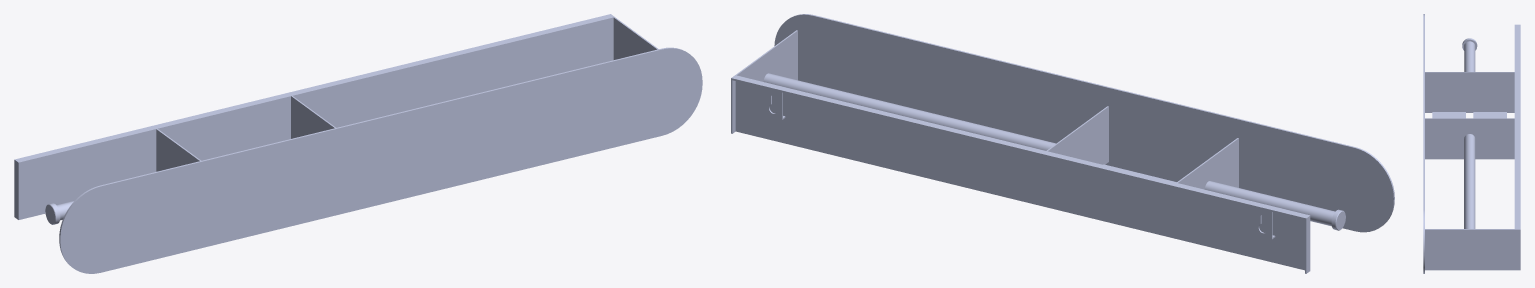
Rendered from round-trio.2ea8ded343.glb.
3 views of the same model, side by side, from view 1: azimuth 30°, elevation 25°; view 2: azimuth 150°, elevation 25°; view 3: azimuth 270°, elevation 25° (orthographic). The views are drawn at different scales.
Parts seen in each view (by area): view 1: NAUO1; view 2: NAUO1; view 3: NAUO1.
Boxes of the visible parts, bbox=[...] form: NAUO1: bbox=[14, 14, 702, 273]; NAUO1: bbox=[731, 14, 1394, 273]; NAUO1: bbox=[1423, 14, 1520, 273].
Size of the model in its own units: 0.7 by 0.09 by 0.13.
